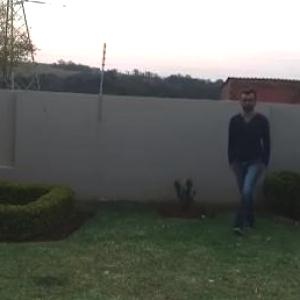follow: (214, 92, 270, 217)
